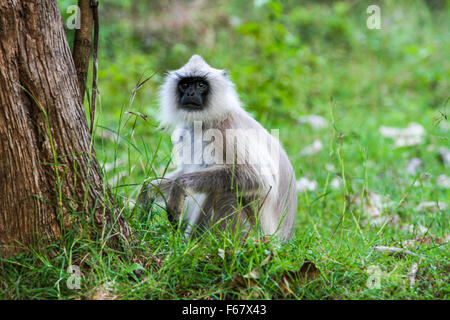monkey: (138, 51, 310, 268)
